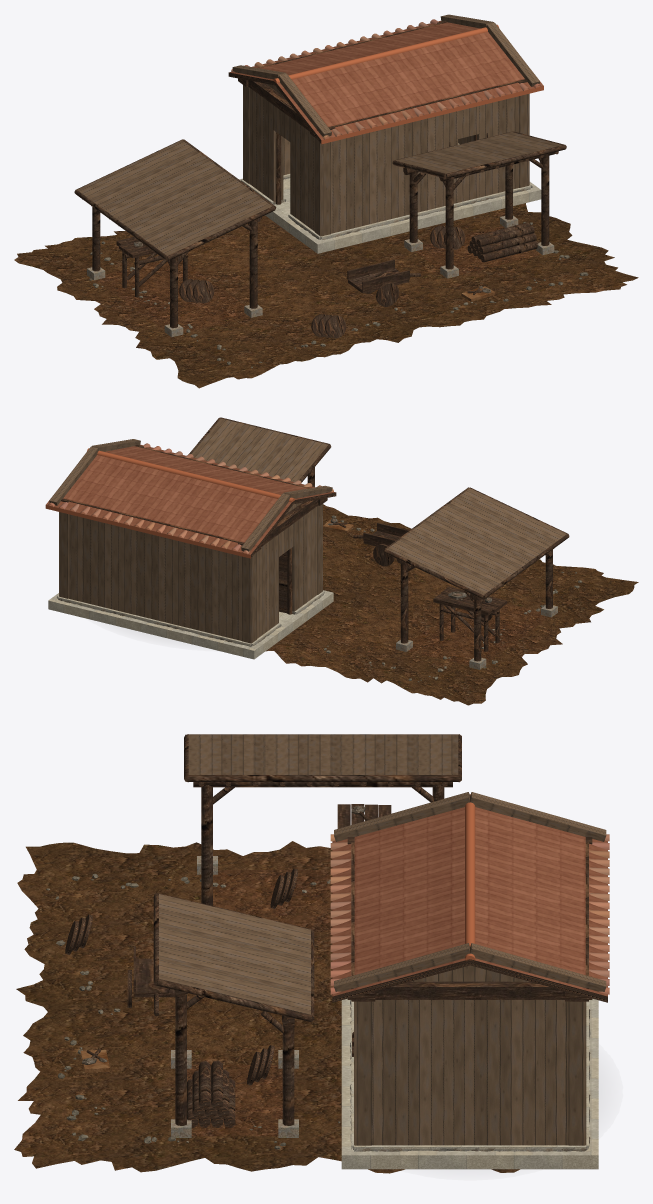
Rendered from cartwright@2.glb.
The picture shows the model from 3 angles, top to bottom: view 1: azimuth 30°, elevation 25°; view 2: azimuth 150°, elevation 25°; view 3: azimuth 270°, elevation 25°; orthographic projection. The views are drawn at different scales.
Parts seen in each view (by area): view 1: part_1, part_6, part_7, part_11, part_15, part_10, part_5, part_16, part_4, part_17, part_2; view 2: part_1, part_6, part_11, part_15, part_7, part_5, part_10, part_16, part_17, part_4; view 3: part_1, part_6, part_15, part_11, part_7, part_5, part_10, part_17, part_4, part_16, part_2.
Boxes of the visible parts, x1=… form: part_1: x1=14, y1=203, x2=638, y2=388; part_6: x1=243, y1=83, x2=529, y2=236; part_7: x1=74, y1=20, x2=566, y2=338; part_11: x1=77, y1=14, x2=562, y2=255; part_15: x1=229, y1=20, x2=543, y2=139; part_10: x1=96, y1=226, x2=541, y2=332; part_5: x1=239, y1=143, x2=541, y2=253; part_16: x1=273, y1=24, x2=543, y2=144; part_4: x1=87, y1=177, x2=554, y2=337; part_17: x1=231, y1=19, x2=541, y2=139; part_2: x1=89, y1=217, x2=588, y2=368; part_1: x1=266, y1=504, x2=638, y2=705; part_6: x1=59, y1=502, x2=322, y2=643; part_11: x1=49, y1=418, x2=566, y2=594; part_15: x1=46, y1=444, x2=335, y2=554; part_7: x1=61, y1=417, x2=569, y2=661; part_5: x1=48, y1=590, x2=333, y2=659; part_10: x1=408, y1=603, x2=548, y2=665; part_16: x1=45, y1=448, x2=294, y2=558; part_17: x1=48, y1=443, x2=333, y2=554; part_4: x1=56, y1=594, x2=557, y2=669; part_1: x1=14, y1=841, x2=519, y2=1173; part_6: x1=354, y1=965, x2=586, y2=1145; part_15: x1=332, y1=807, x2=607, y2=996; part_11: x1=159, y1=734, x2=606, y2=1014; part_7: x1=65, y1=734, x2=607, y2=1127; part_5: x1=341, y1=998, x2=598, y2=1169; part_10: x1=187, y1=870, x2=332, y2=1136; part_17: x1=330, y1=834, x2=609, y2=994; part_4: x1=171, y1=856, x2=590, y2=1151; part_16: x1=465, y1=794, x2=475, y2=960; part_2: x1=46, y1=874, x2=340, y2=1149.
Size of the model in its own units: 9.57 by 2.85 by 7.25.
Materials: 18 (14 with a texture image).
